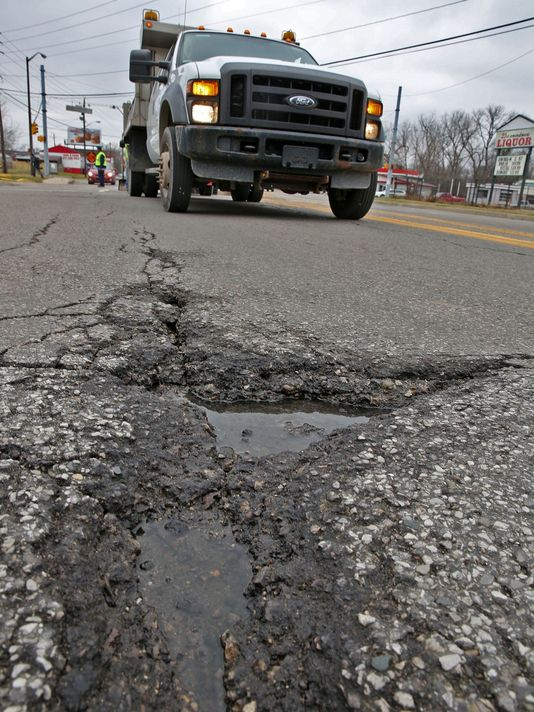pothole: (199, 341, 480, 483), (116, 483, 297, 695)
